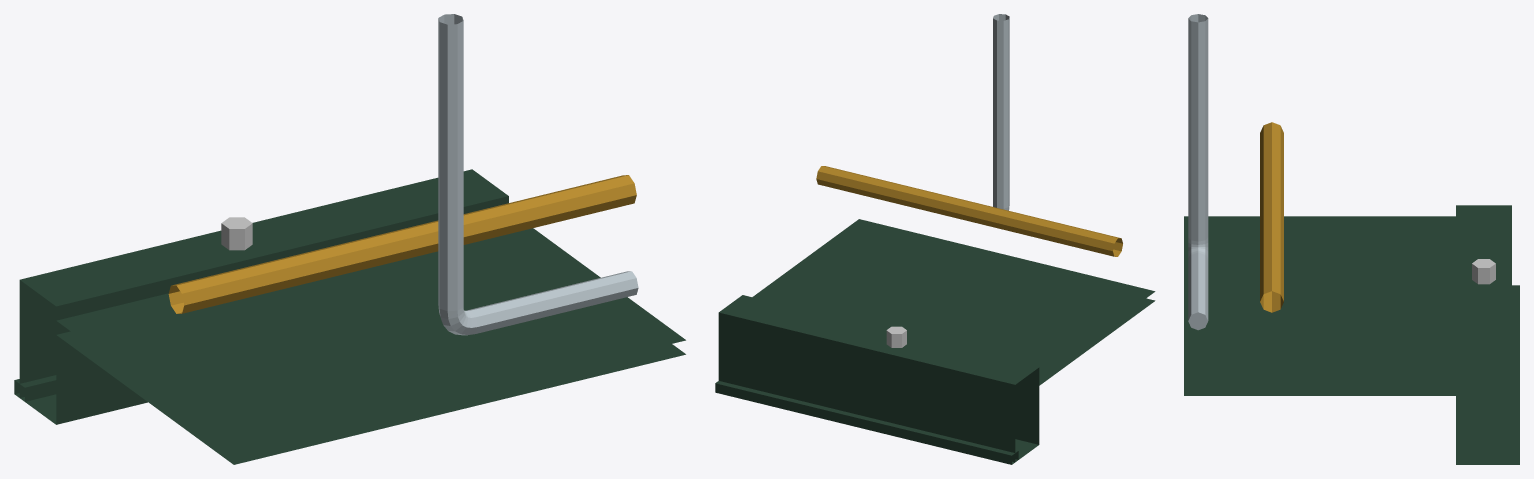
Rendered from cell_2.obj.
The picture shows the model from 3 angles, left to right: view 1: azimuth 30°, elevation 25°; view 2: azimuth 150°, elevation 25°; view 3: azimuth 270°, elevation 25°; orthographic projection. The views are drawn at different scales.
Size of the model in its own units: 1 by 1 by 0.84.
